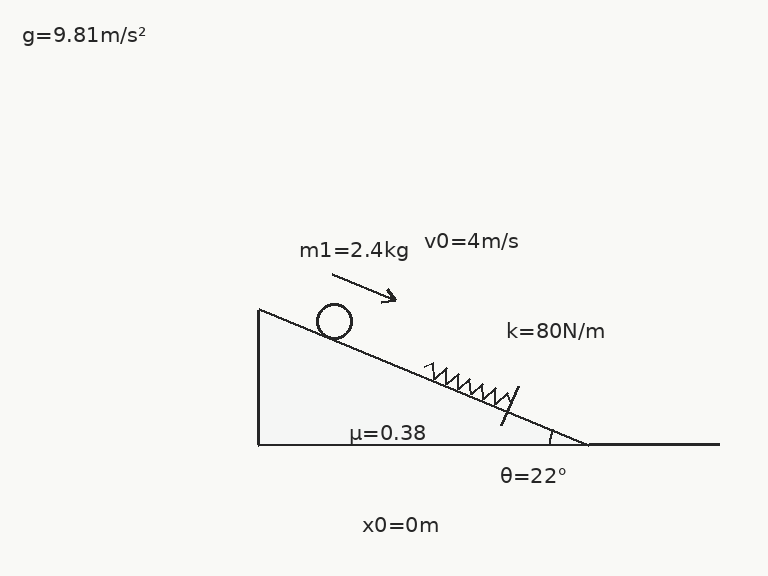ball: (315, 301, 354, 341)
ramp: (256, 308, 592, 446)
spring: (422, 361, 512, 406)
